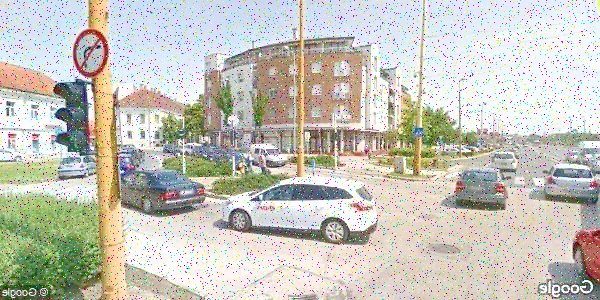a_no_turn: (72, 29, 109, 78)
